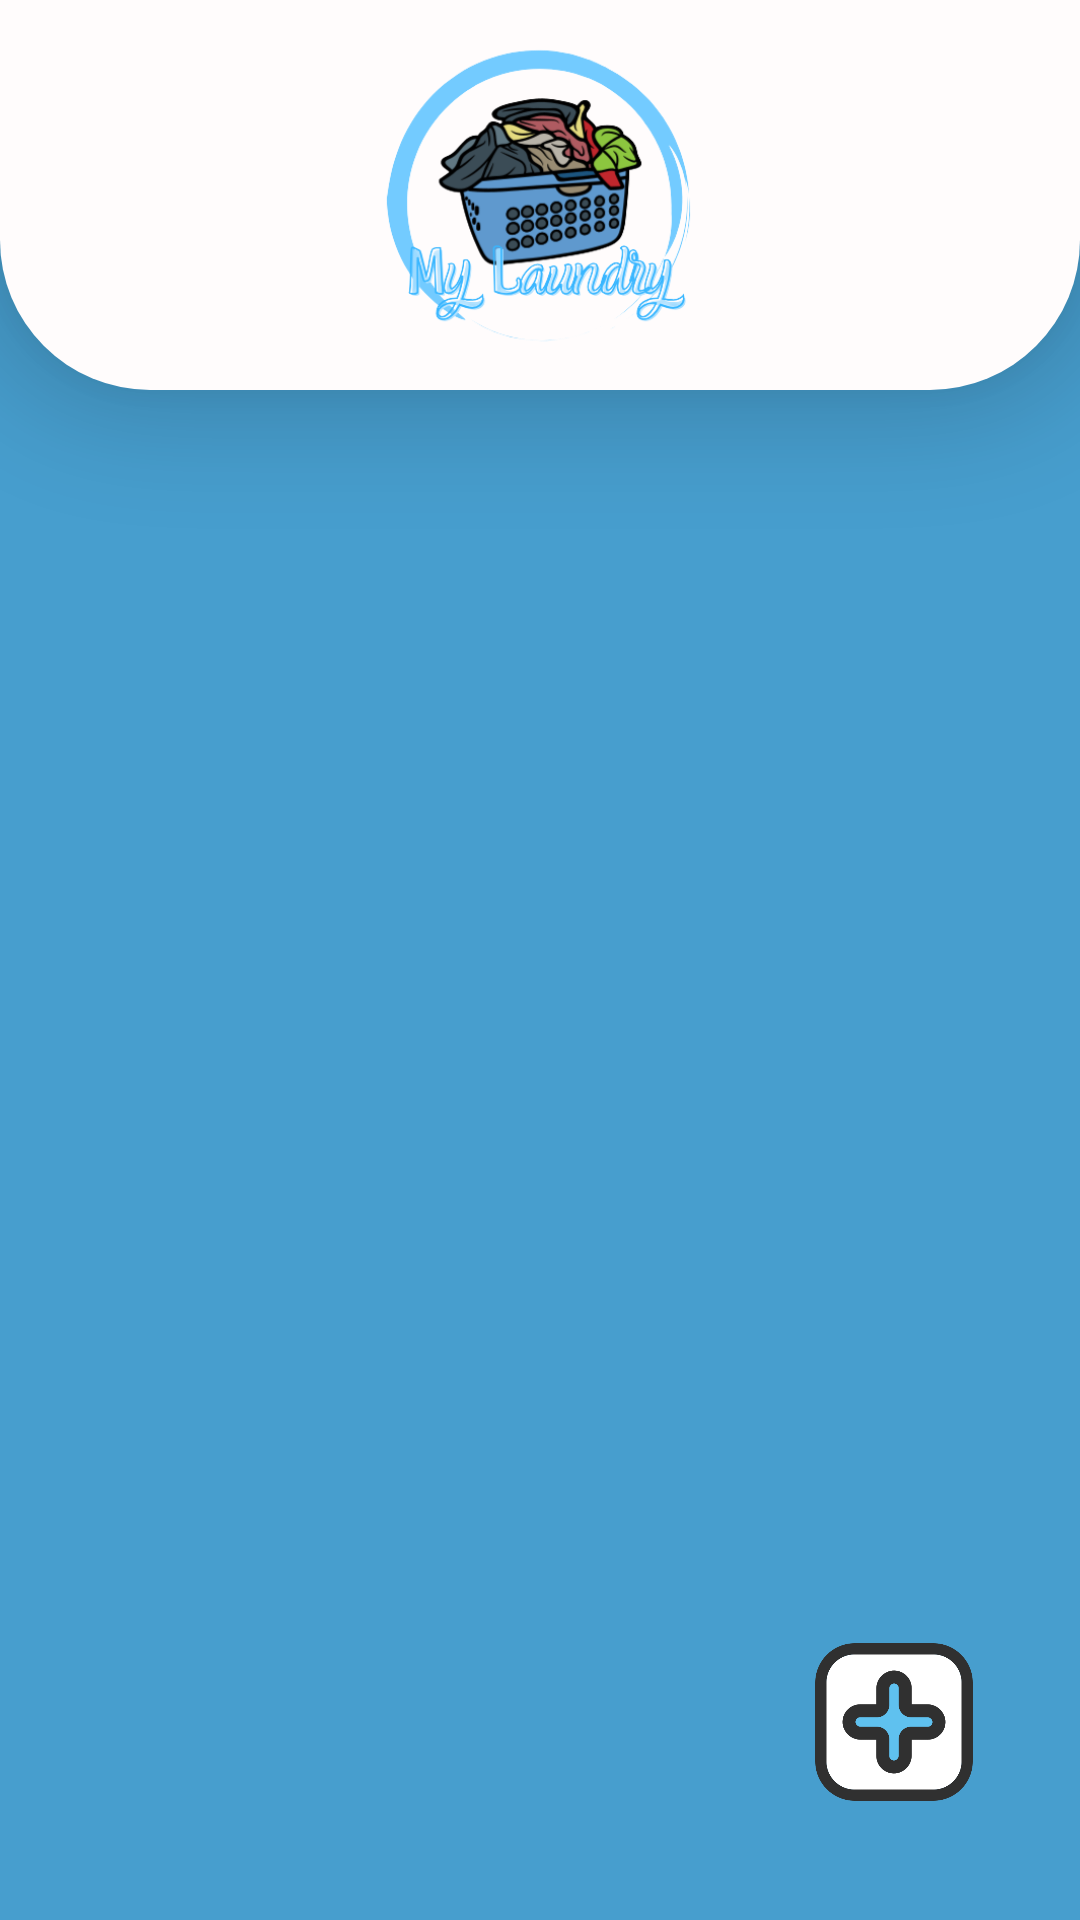

Locate icon controls on the screen. Image size 1080w x 1920h, boxes as (left=x1, top=y1, right=x2, bottom=y2).
add: (left=815, top=1643, right=973, bottom=1801)
